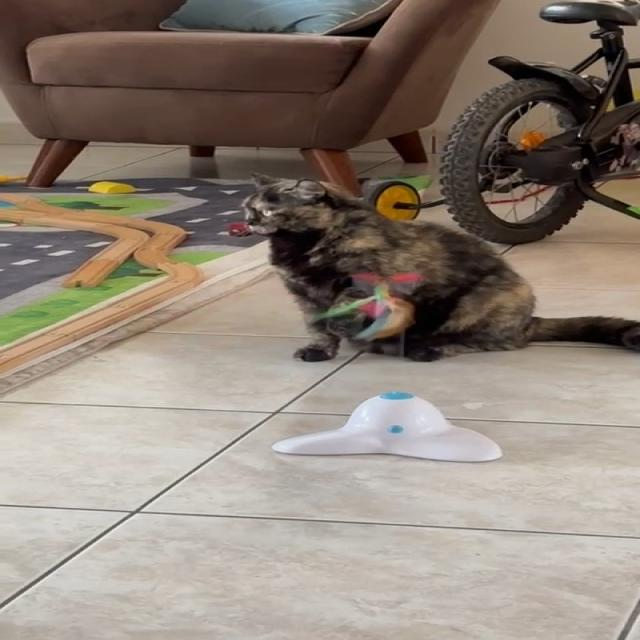authorized: (237, 171, 639, 363)
